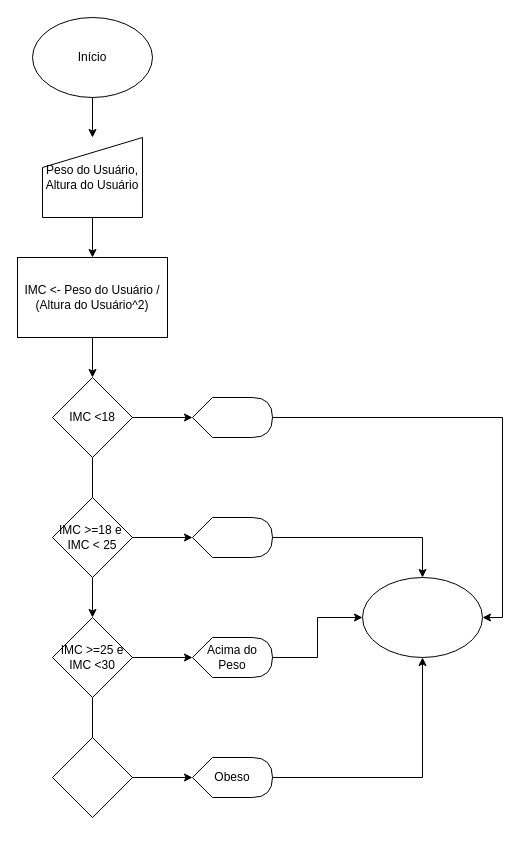
Image size: 528x843. Some labels were removed from this diagram. Here are the shapes that lost their labels. From the top down, the box of each, then its label:
(192, 396, 272, 438): Abaixo do peso
(192, 516, 272, 558): Saudável
(362, 576, 482, 658): Fim
(52, 736, 132, 818): IMC >= 30
